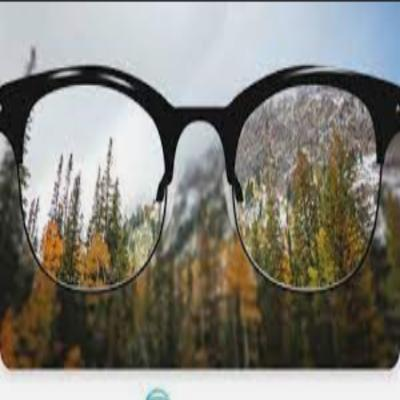glasses: (1, 63, 399, 290)
